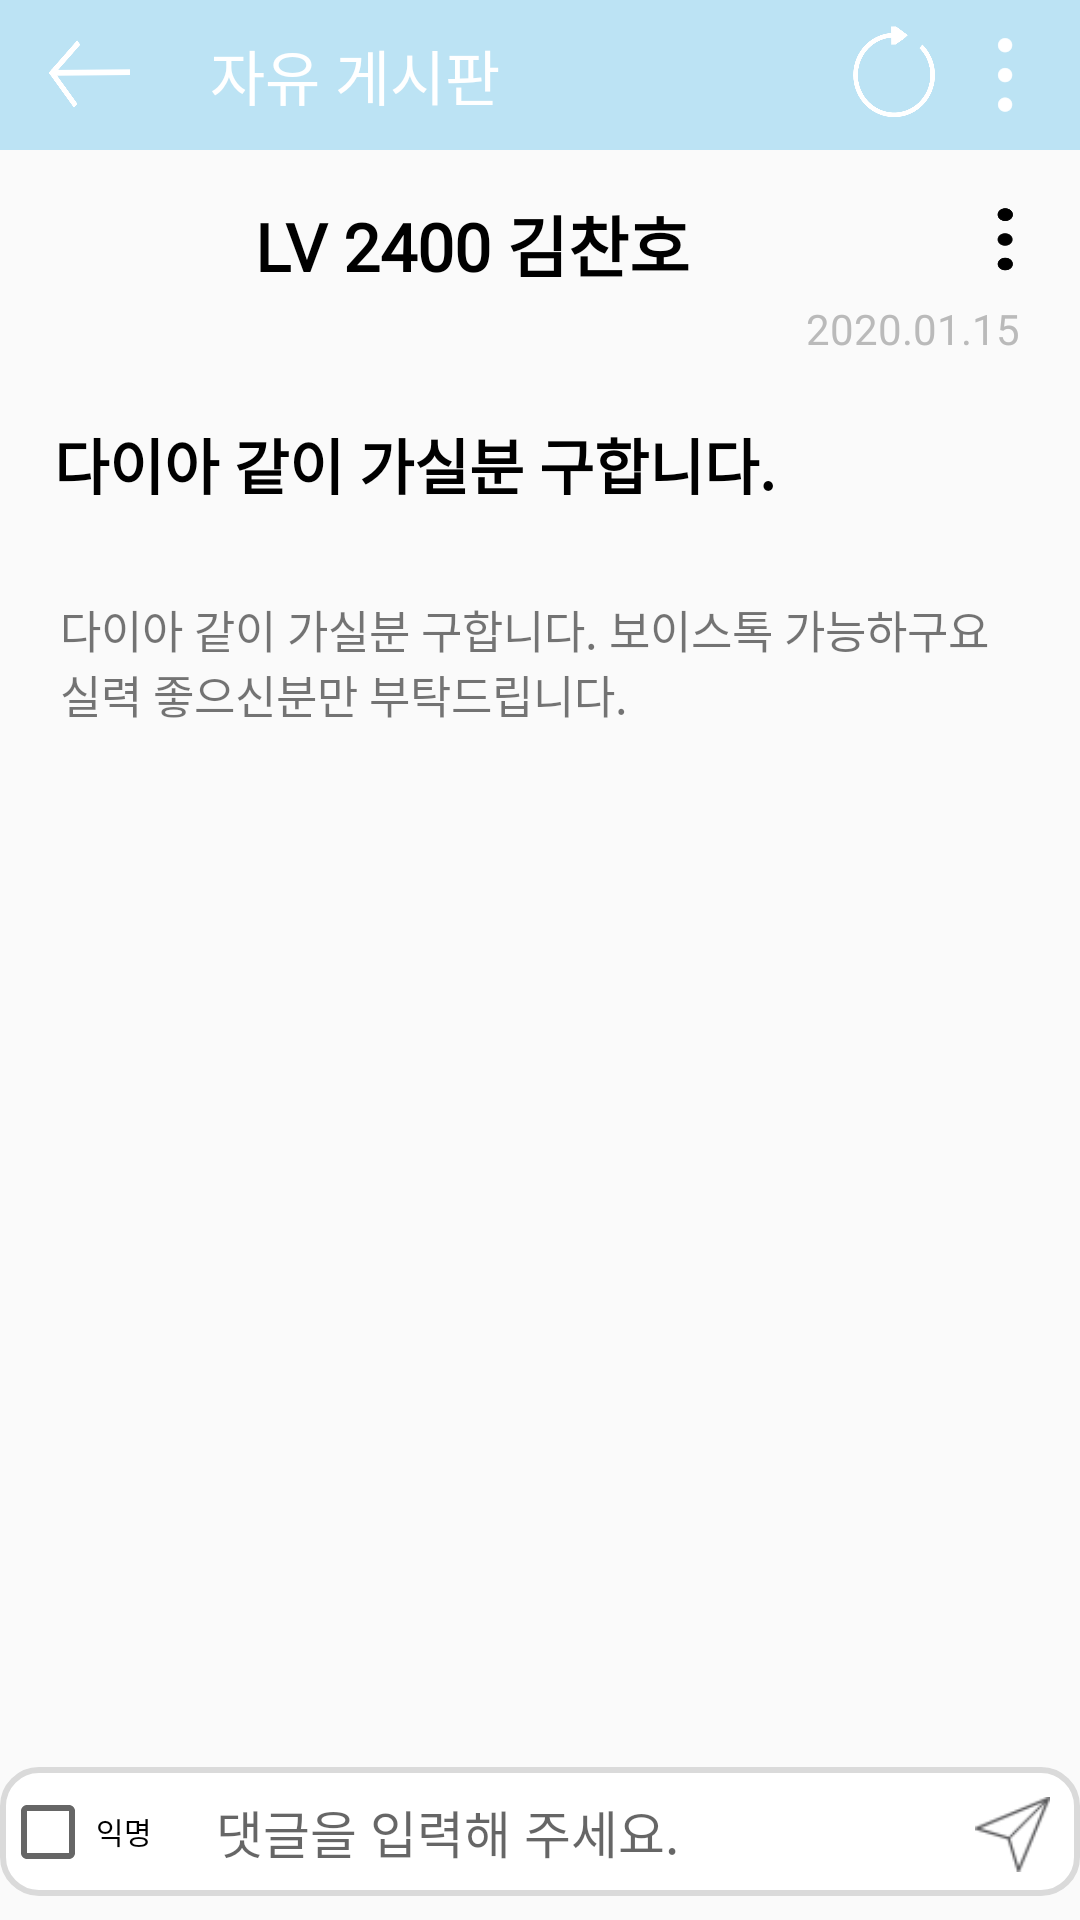

Icons on this 1080 x 1920 Android screen, each with the point to tap as point (x, y):
backspace: point (89, 74)
comment write: point (1012, 1834)
popup: point (1005, 75)
user popup: point (1005, 239)
writtenrefresh: point (894, 71)
